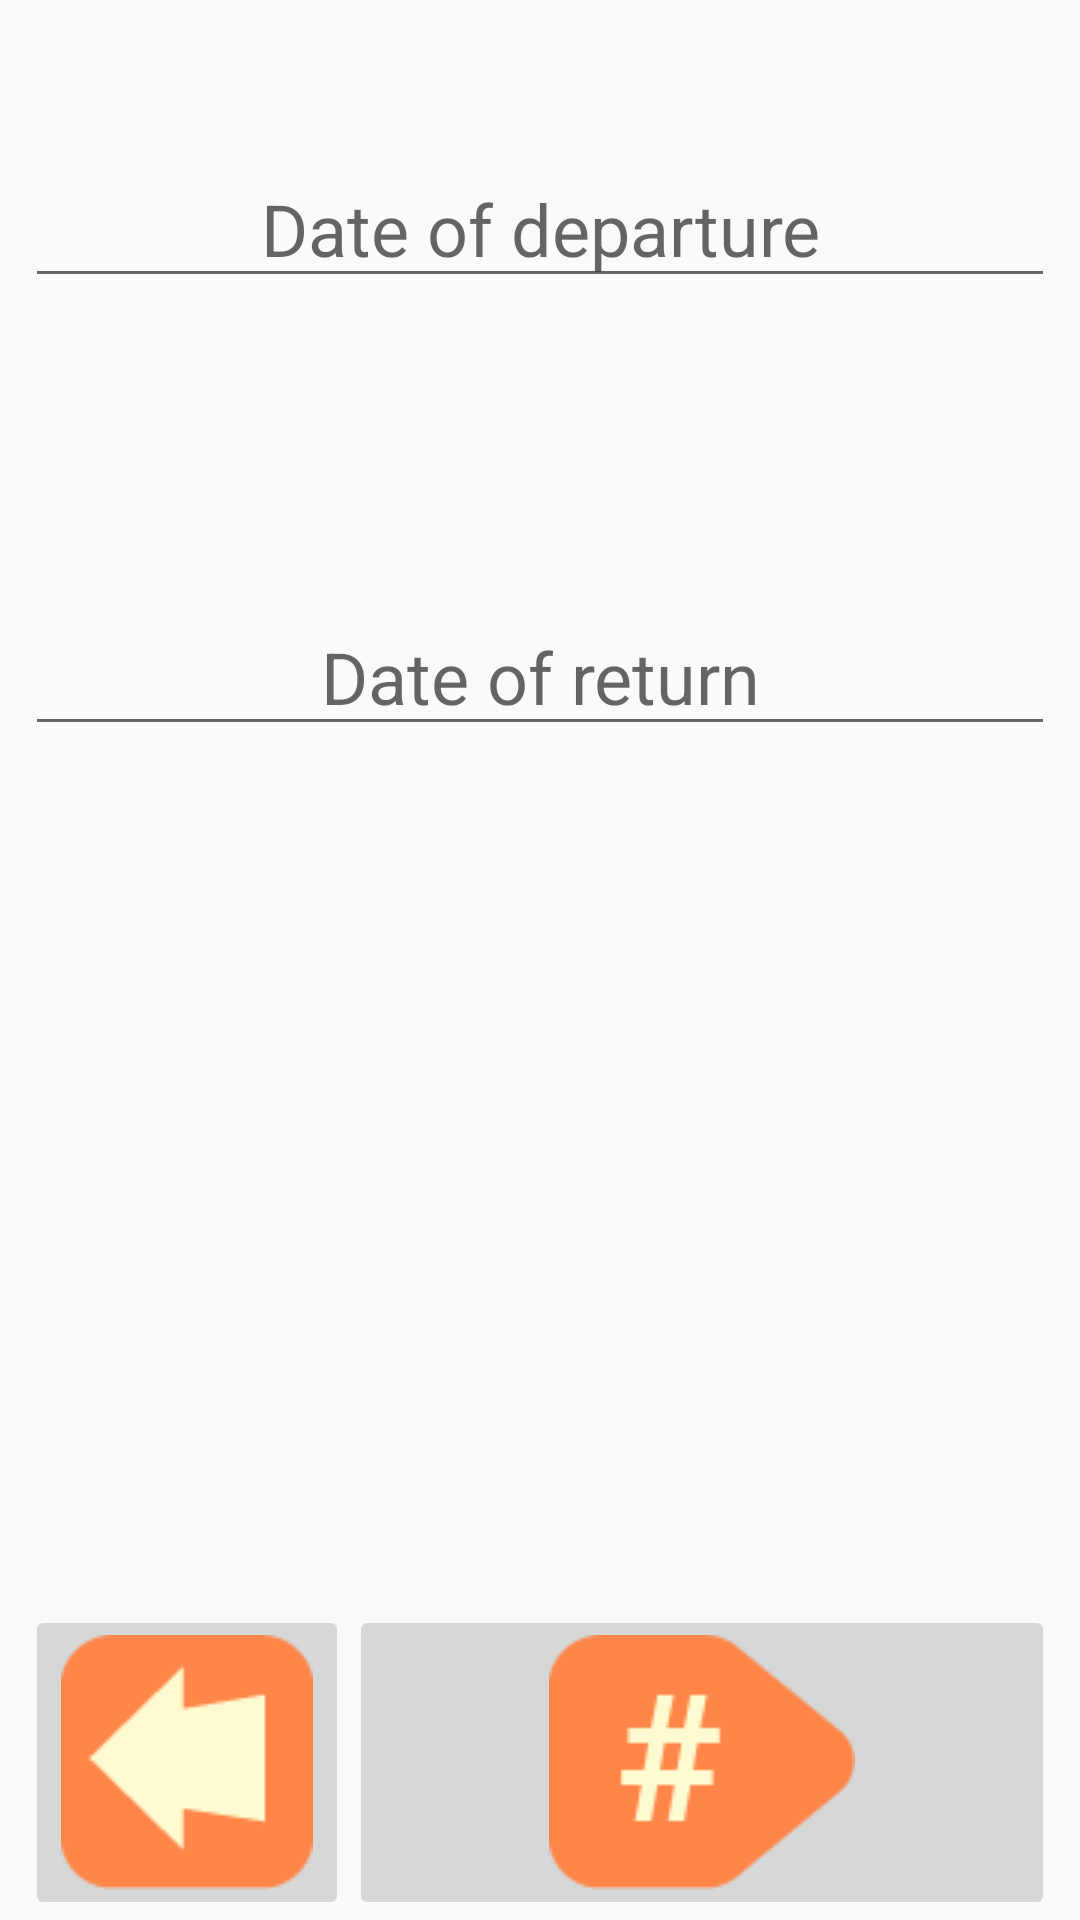

Icon bounding boxes for this 1080*1920 phone screenshot, format region(x1, y1, x2, y2):
back: region(37, 1623, 337, 1902)
